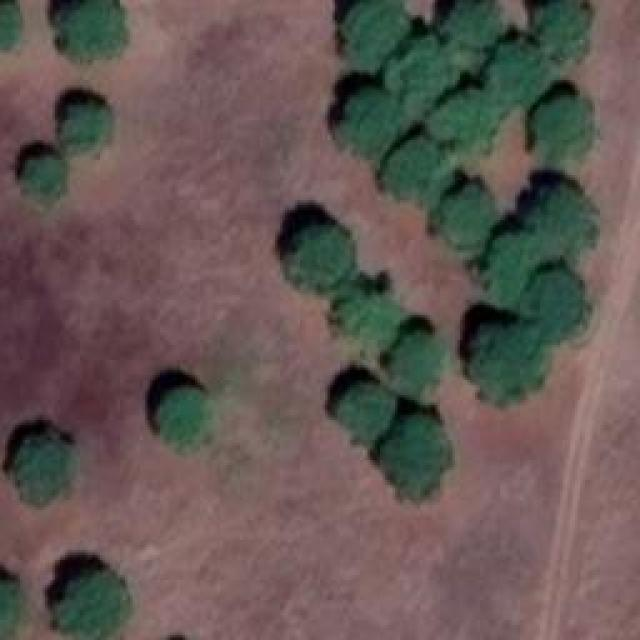Tree: (427, 85, 505, 165), (475, 325, 545, 398), (385, 415, 448, 495), (387, 40, 455, 113), (58, 573, 128, 638), (343, 0, 408, 68), (340, 93, 408, 158), (385, 138, 450, 203), (445, 0, 505, 70), (535, 190, 588, 258), (340, 295, 405, 350), (67, 0, 125, 60), (290, 228, 353, 283), (18, 438, 73, 501), (528, 273, 581, 338), (490, 235, 540, 303), (493, 43, 548, 103), (538, 97, 591, 155), (160, 390, 210, 445), (445, 188, 493, 243), (340, 387, 395, 435), (540, 0, 585, 55), (395, 335, 440, 388), (62, 105, 110, 148), (25, 155, 65, 203), (0, 583, 20, 638), (0, 3, 20, 48)
